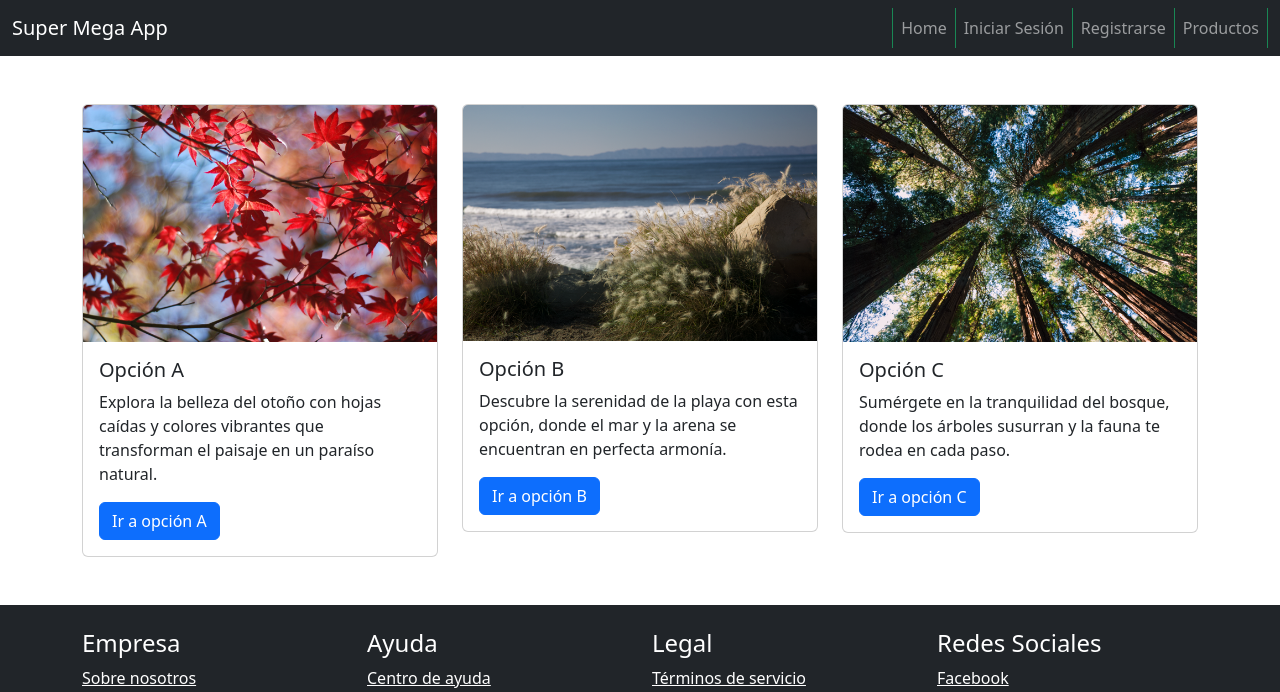
Scenario: debe mostrar un mensaje de error si los password no coinciden
Click the link to "/register": (1124, 28) 1073,8 -> 1175,48
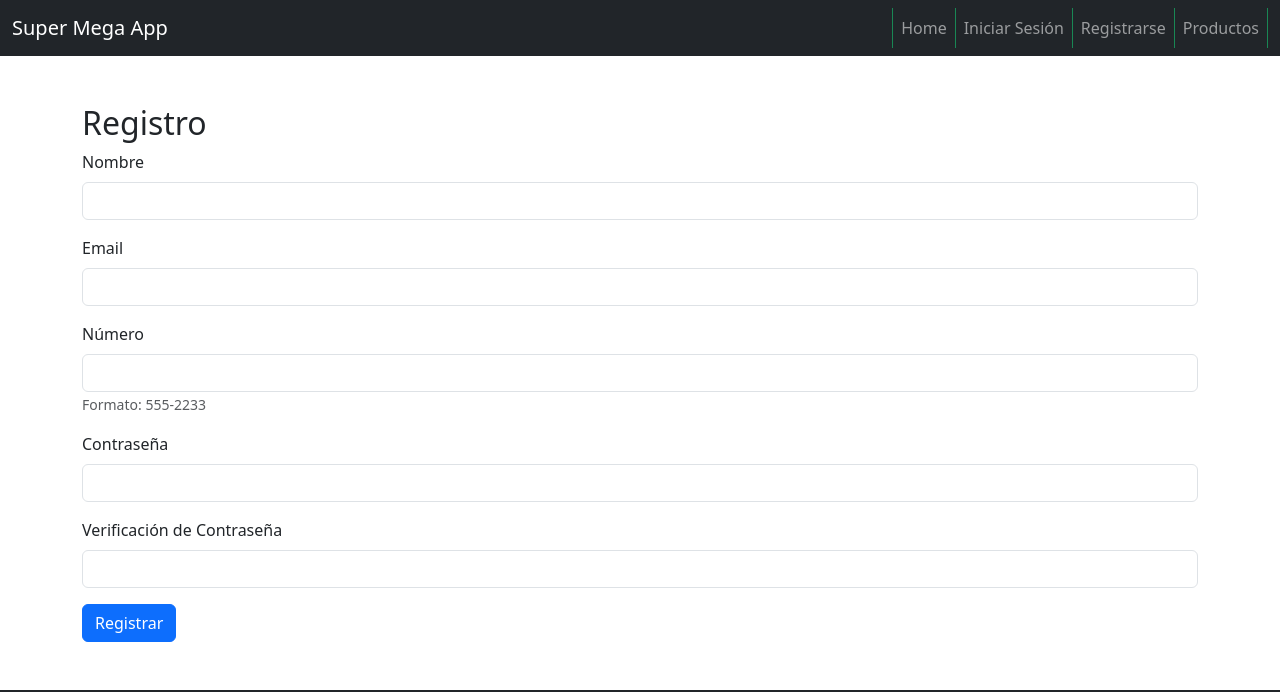
In the password field named "password": (640, 483) 82,464 -> 1198,502, type "password123"
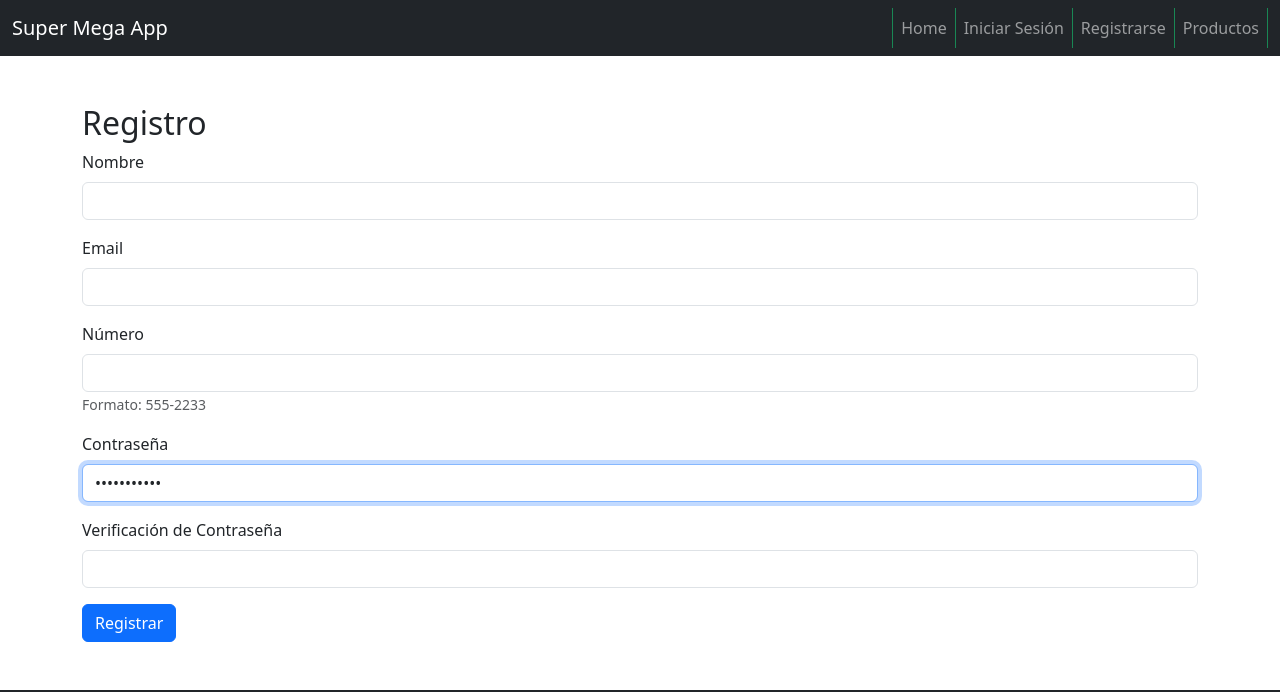
In the password field named "confirmPassword": (640, 569) 82,550 -> 1198,588, type "password345s"
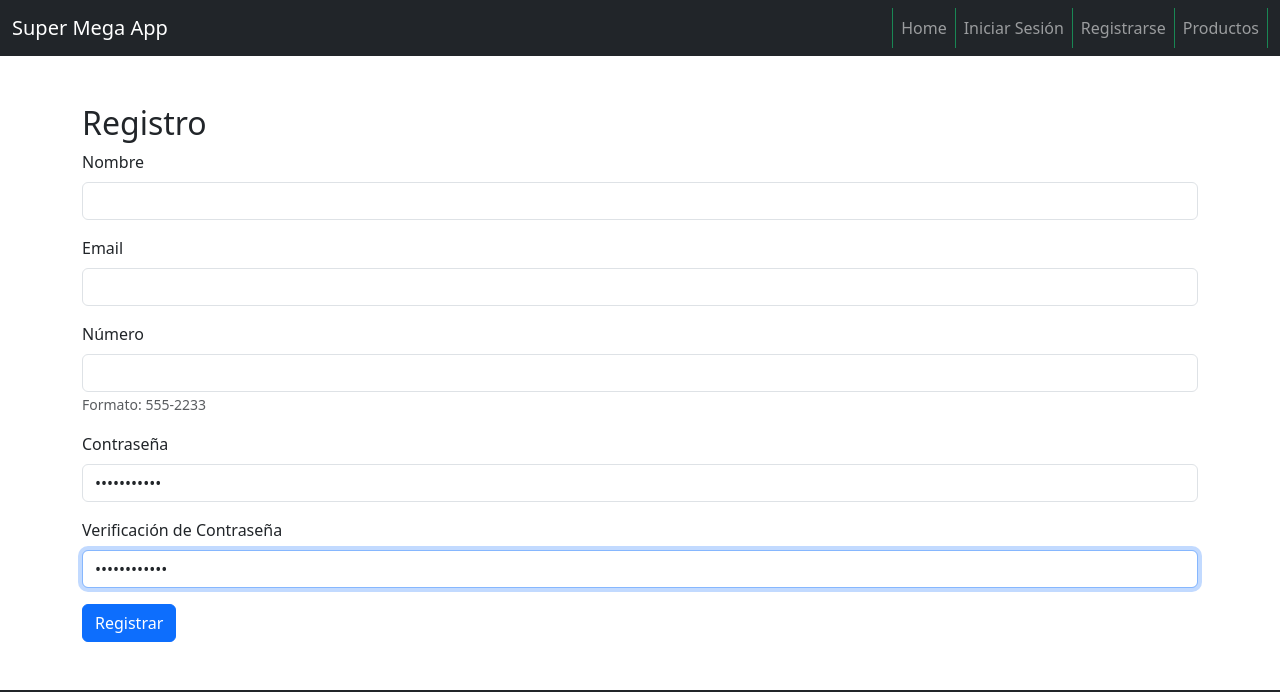
Submit the form
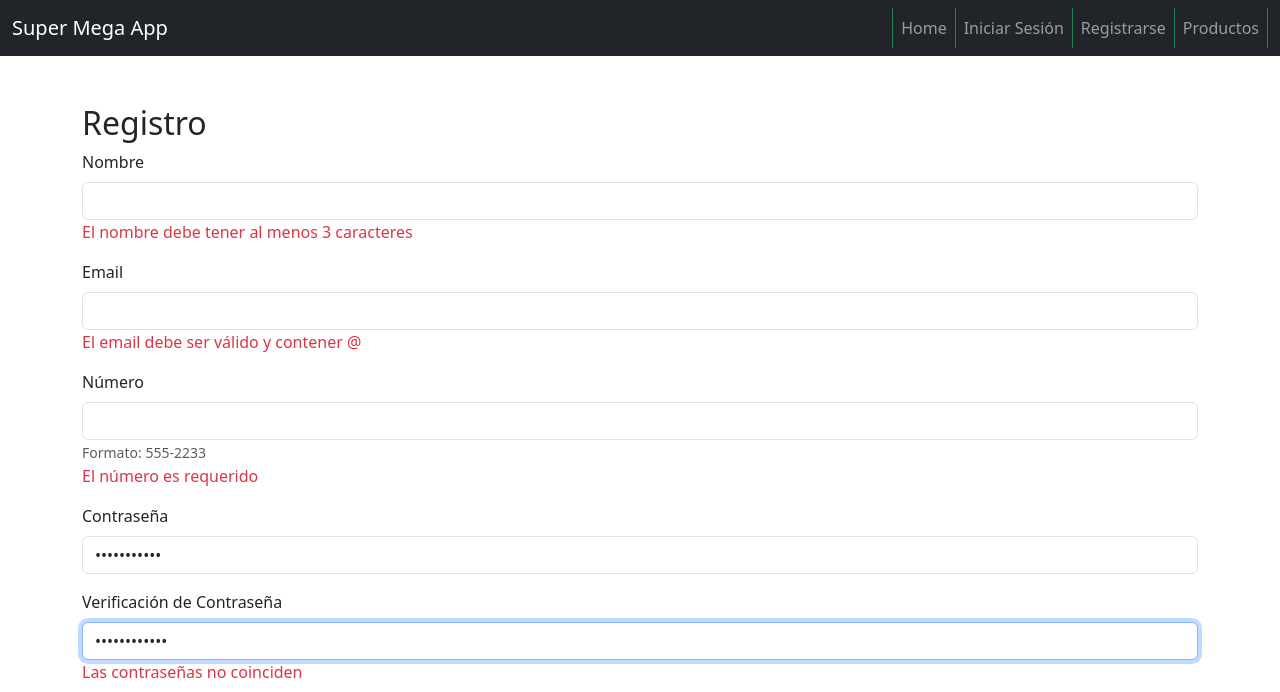
Expected: the text "Las contraseñas no coinciden" is shown, 82,661 -> 302,683
